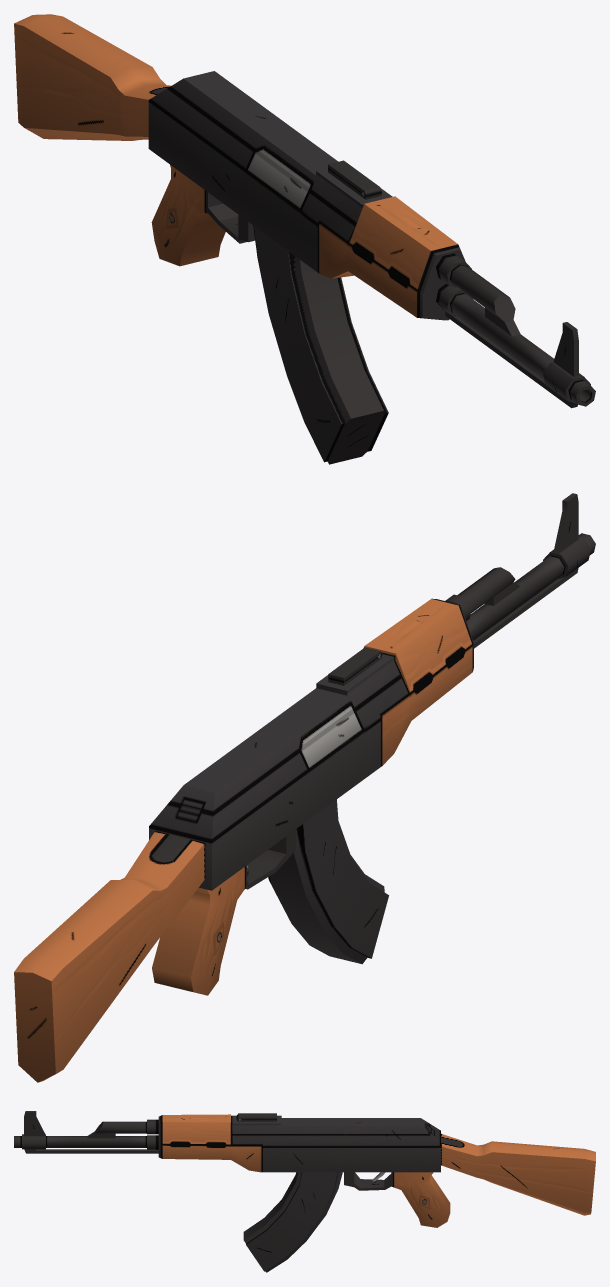
The model's file is mod_wpn_ar01.fbx.
3 renders of one model, top to bottom at view 1: azimuth 30°, elevation 25°; view 2: azimuth 150°, elevation 25°; view 3: azimuth 270°, elevation 25°, orthographic. The views are drawn at different scales.
Visible parts, largest first — view 1: mod_wpn_ar01; view 2: mod_wpn_ar01; view 3: mod_wpn_ar01.
Boxes of the visible parts, <box> form: mod_wpn_ar01: <box>14,14,595,464</box>; mod_wpn_ar01: <box>14,493,595,1082</box>; mod_wpn_ar01: <box>14,1111,595,1272</box>.
Bounding box in the file's own units: 5.75 × 26.02 × 87.4.
